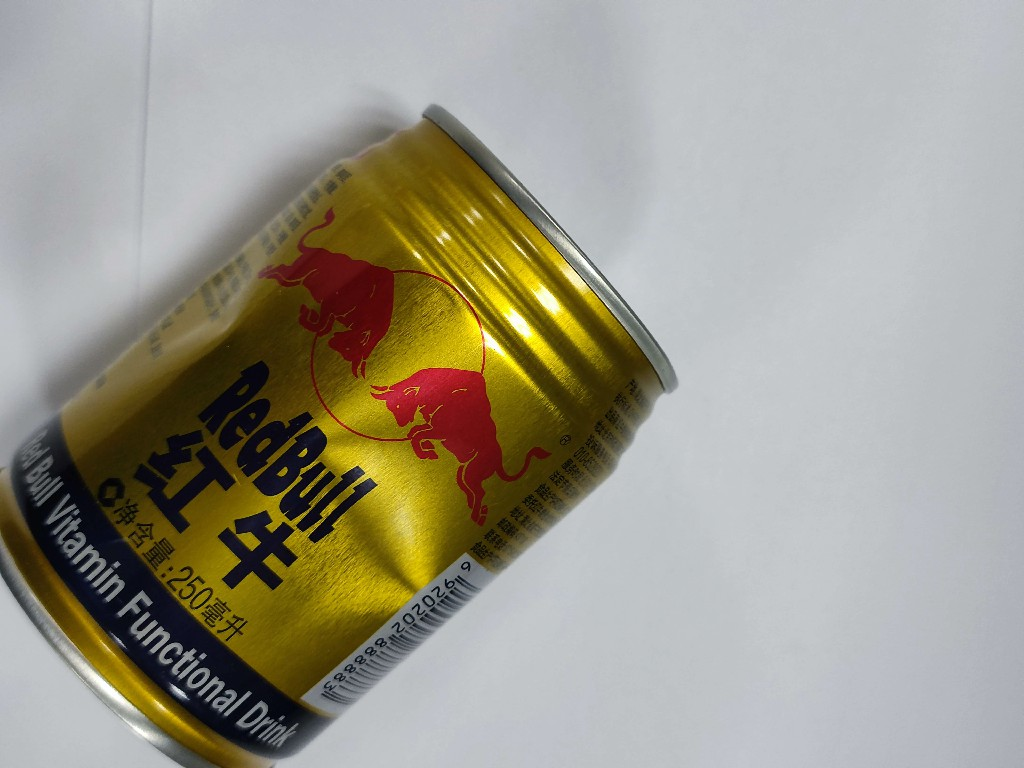can: (1, 99, 683, 768)
